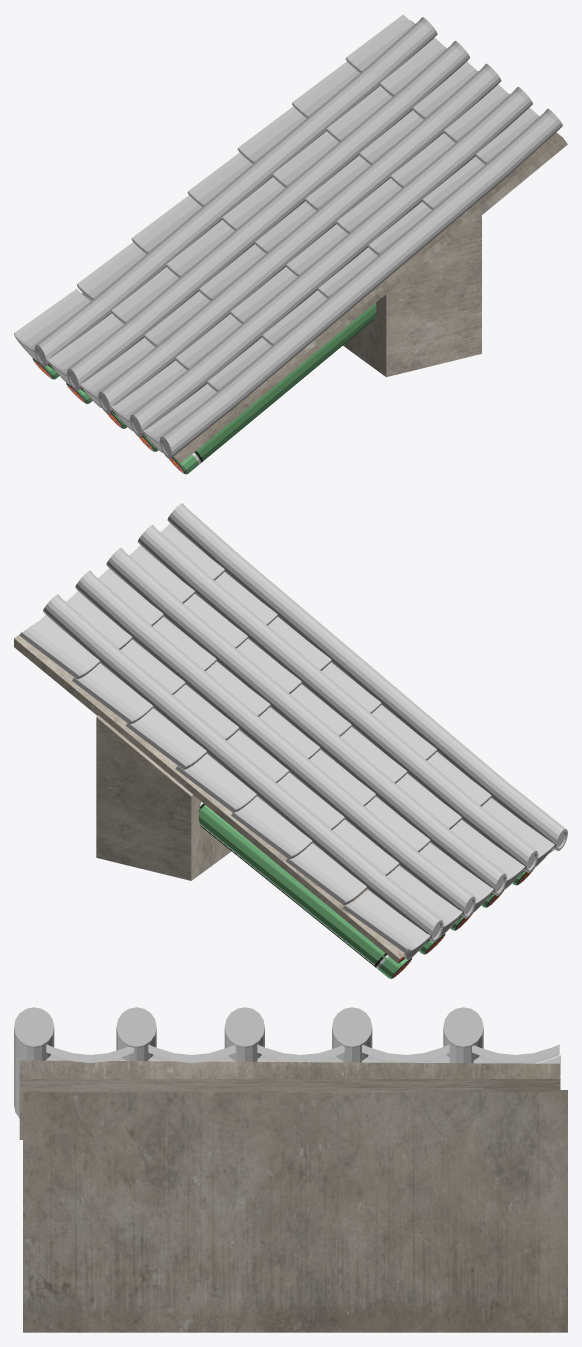
Rendered from SM_Roof_30.fbx.
3 renders of one model, top to bottom at view 1: azimuth 30°, elevation 25°; view 2: azimuth 150°, elevation 25°; view 3: azimuth 270°, elevation 25°, orthographic. The views are drawn at different scales.
Parts seen in each view (by area): view 1: SM_Roof_30; view 2: SM_Roof_30; view 3: SM_Roof_30.
Boxes of the visible parts, x1=… form: SM_Roof_30: x1=14, y1=14, x2=567, y2=474; SM_Roof_30: x1=14, y1=503, x2=567, y2=978; SM_Roof_30: x1=14, y1=1007, x2=567, y2=1332.
Size of the model in its own units: 299 by 209 by 205.
